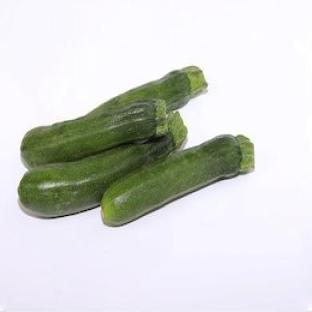Zucchini: (19, 112, 186, 217), (102, 136, 254, 225), (21, 100, 167, 167), (88, 66, 207, 116)
